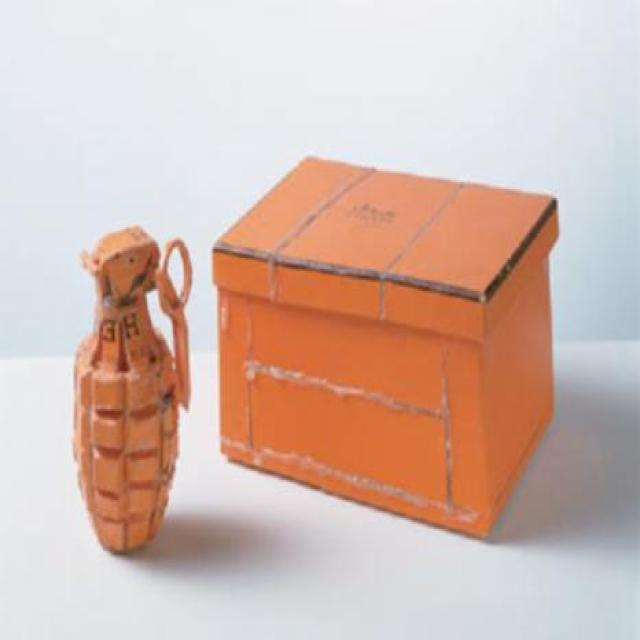grenade: (72, 226, 192, 556)
